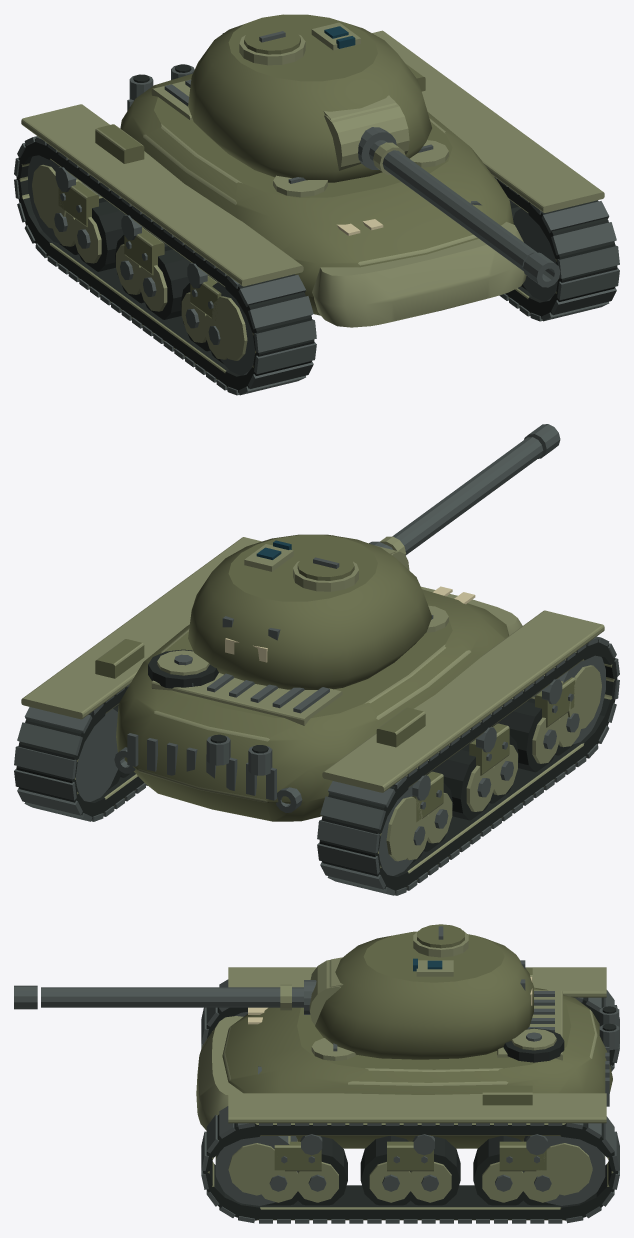
Rendered from foundry.glb.
3 views of the same model, one above another, from view 1: azimuth 30°, elevation 25°; view 2: azimuth 150°, elevation 25°; view 3: azimuth 270°, elevation 25° (orthographic). The views are drawn at different scales.
Parts seen in each view (by area): view 1: Hull, Turret, Barrel; view 2: Hull, Turret, Barrel; view 3: Hull, Turret, Barrel.
Boxes of the visible parts, x1,y1,x2,y2 form: Hull: (14,30,619,395); Turret: (188,14,431,182); Barrel: (324,100,560,287); Hull: (14,537,619,895); Turret: (188,534,432,689); Barrel: (333,424,560,570); Hull: (196,967,619,1223); Turret: (315,924,533,1059); Barrel: (14,960,340,1025).
Bounding box in the file's own units: 3.66 × 2.32 × 6.19.
